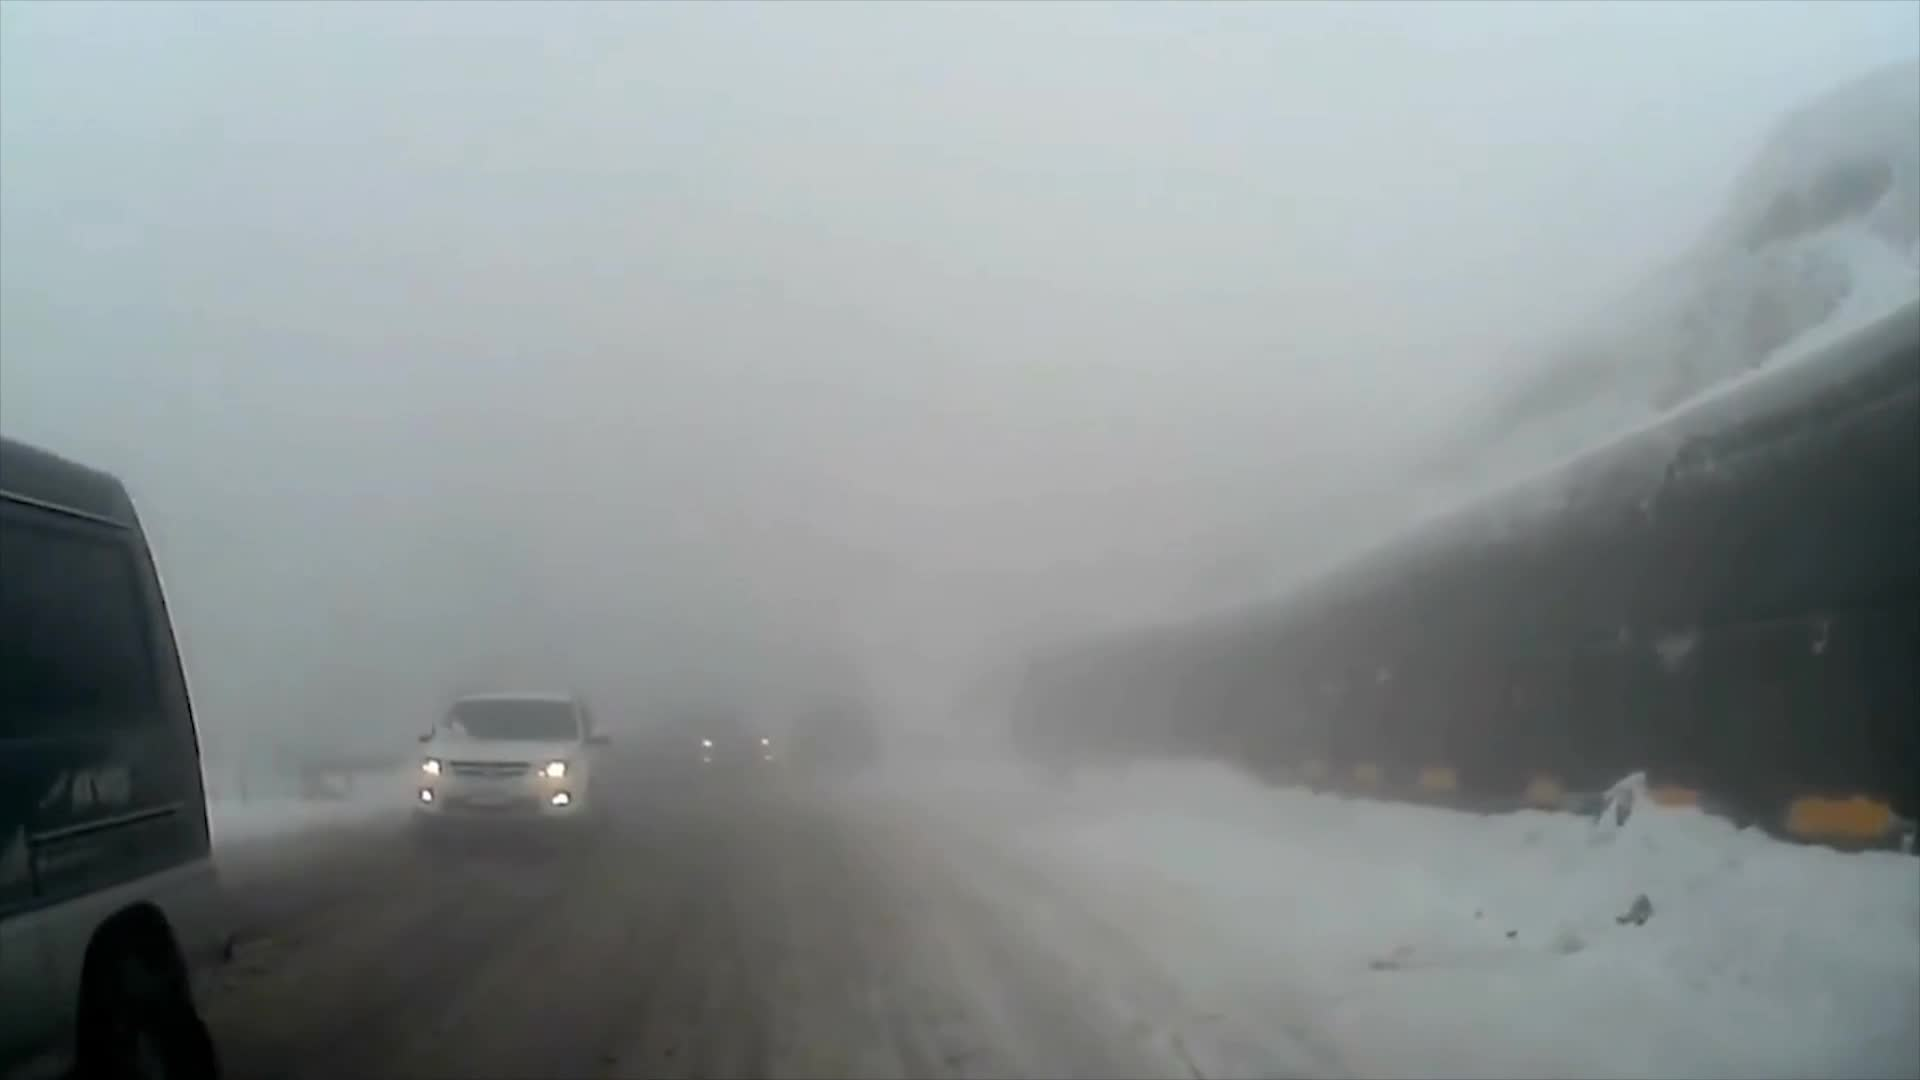vehicle: (0, 433, 222, 1080), (409, 692, 620, 856)
